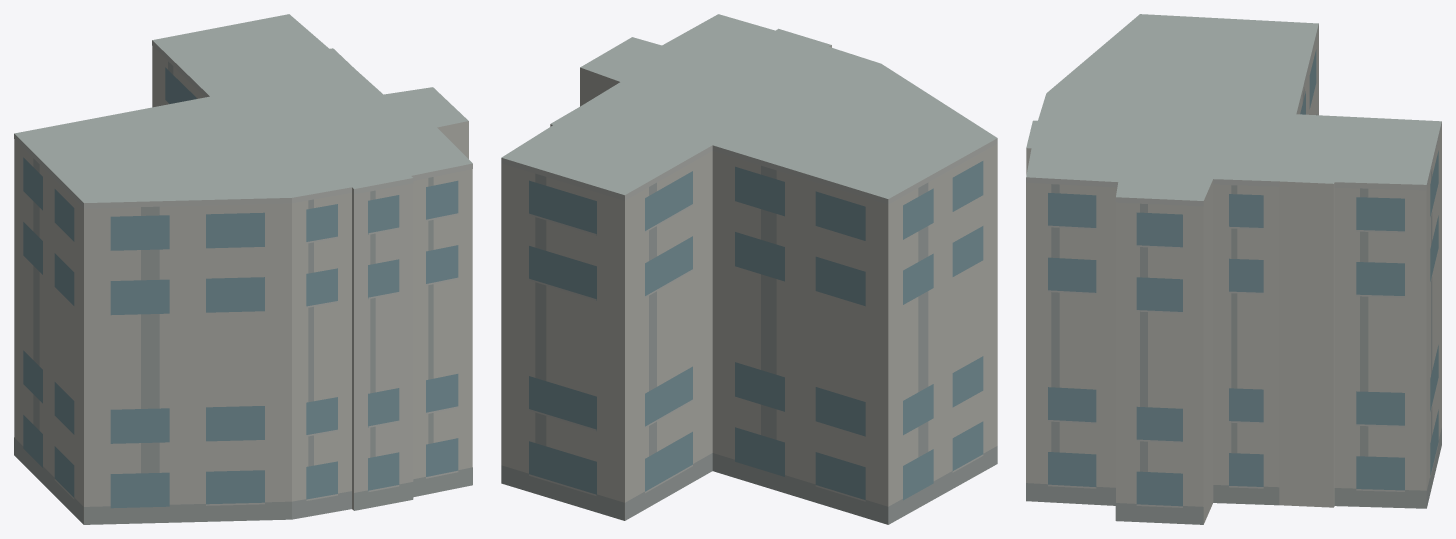
Rendered from survey-upis-32533634.glb.
3 renders of one model, left to right at view 1: azimuth 30°, elevation 25°; view 2: azimuth 150°, elevation 25°; view 3: azimuth 270°, elevation 25°, orthographic.
Visible parts, largest first — view 1: survey-upis-32533634.tmp; view 2: survey-upis-32533634.tmp; view 3: survey-upis-32533634.tmp.
Part boxes in pixels (box(x1,y1,x2,y2)): survey-upis-32533634.tmp: box(14, 14, 472, 524); survey-upis-32533634.tmp: box(501, 14, 997, 524); survey-upis-32533634.tmp: box(1026, 14, 1441, 524).
Size of the model in its own units: 17.85 by 14.4 by 16.76.
